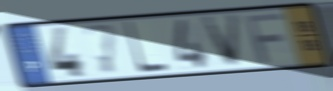4: (49, 24, 87, 80), (173, 17, 210, 71)
7: (82, 22, 118, 78)
F: (243, 11, 286, 65)
L: (122, 20, 171, 76)
V: (200, 12, 242, 70)
